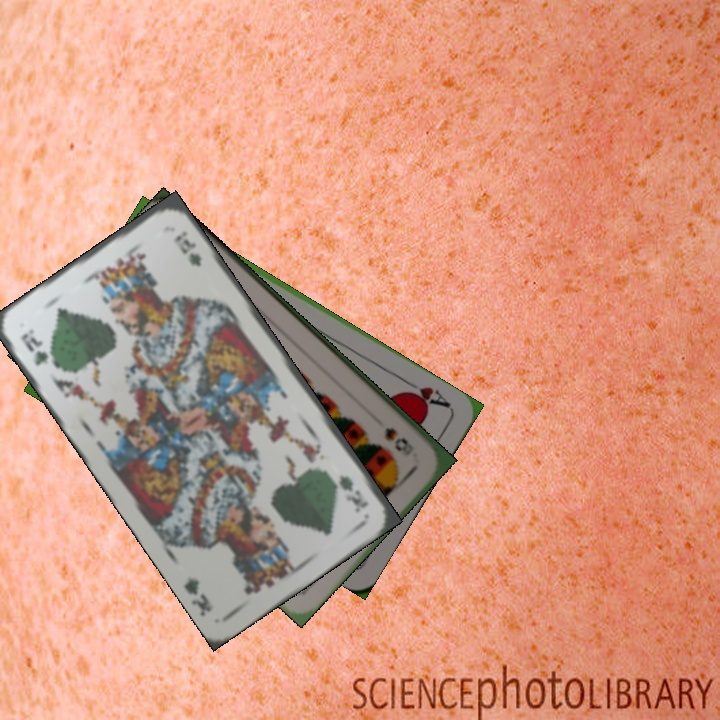GK: (335, 470, 371, 515), (17, 325, 51, 368)
HA: (397, 374, 453, 411)
S8: (380, 423, 417, 459)
